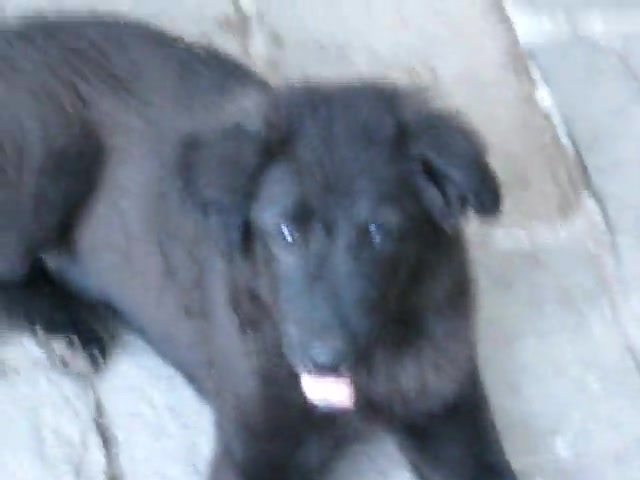dog: (2, 12, 518, 480)
